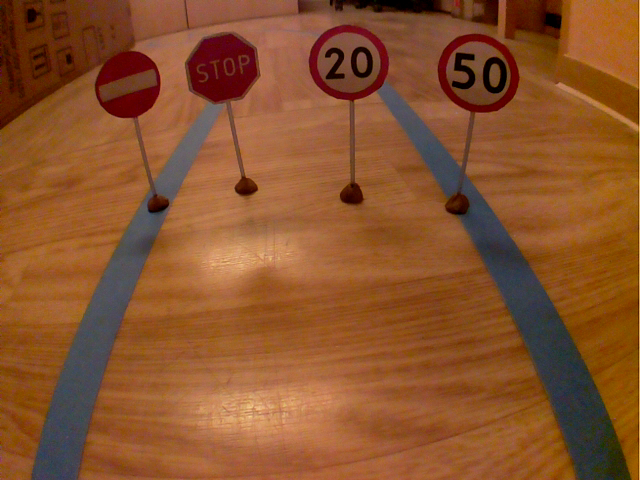Ograniczenie 20: (304, 22, 394, 104)
Ograniczenie 50: (432, 31, 523, 116)
Stop: (182, 28, 265, 107)
Zakaz: (91, 47, 162, 121)
